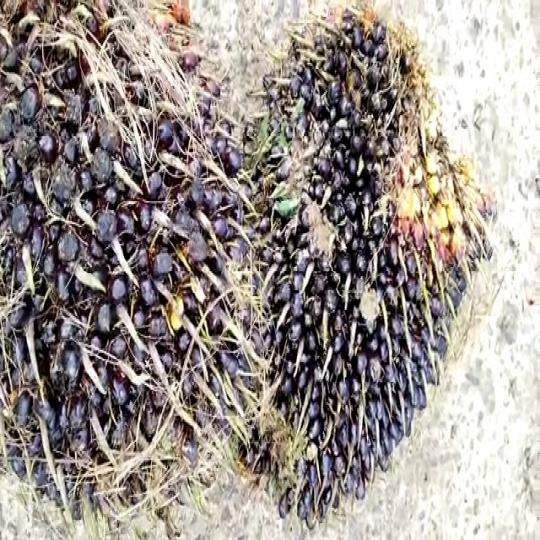mentah: (8, 0, 491, 539)
